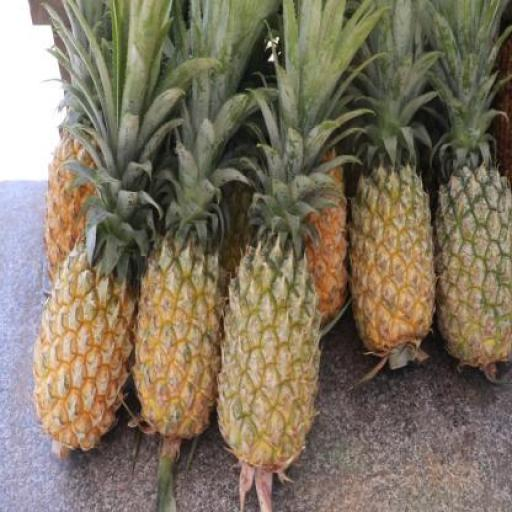------------------------------: (225, 251, 326, 468)
Pineapple - v8 v1: (38, 250, 144, 461), (134, 242, 227, 440), (358, 174, 444, 353), (44, 133, 116, 311)
